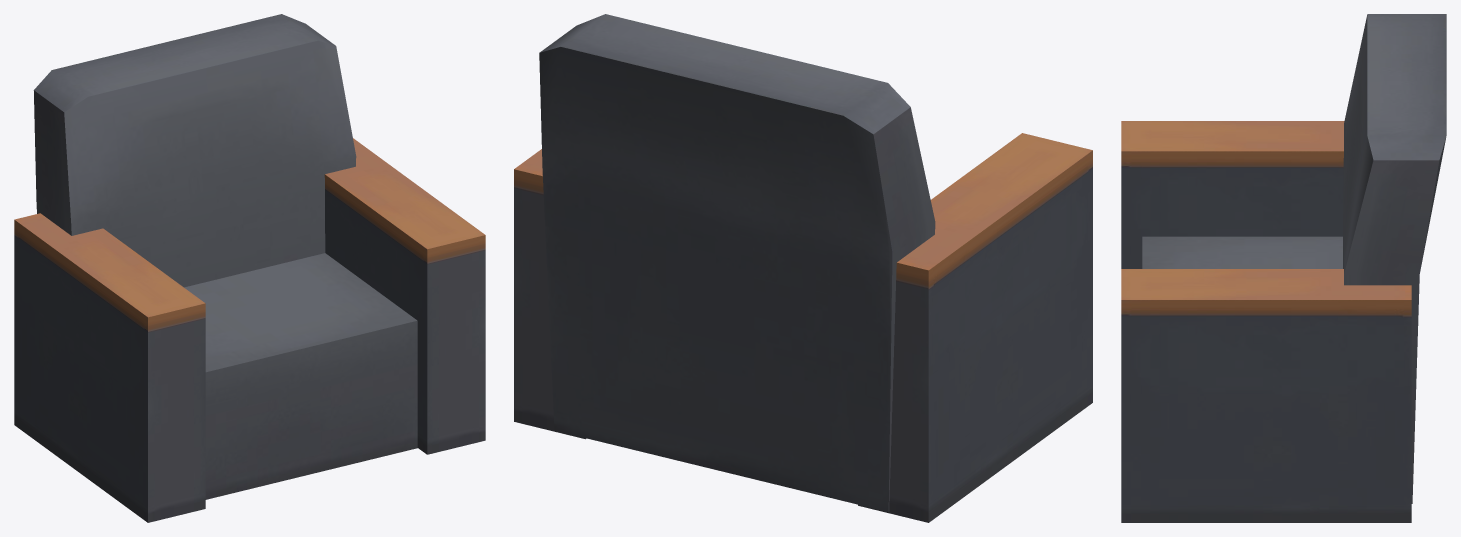
File: sofa1.fbx
3 views of the same model, side by side, from view 1: azimuth 30°, elevation 25°; view 2: azimuth 150°, elevation 25°; view 3: azimuth 270°, elevation 25° (orthographic). The views are drawn at different scales.
Visible parts, largest first — view 1: sofa1; view 2: sofa1; view 3: sofa1.
Part boxes in pixels (x1=…): sofa1: x1=14, y1=14, x2=485, y2=522; sofa1: x1=514, y1=14, x2=1092, y2=522; sofa1: x1=1121, y1=14, x2=1446, y2=522.
Bounding box in the file's own units: 7.8 × 7.3 × 5.99.
